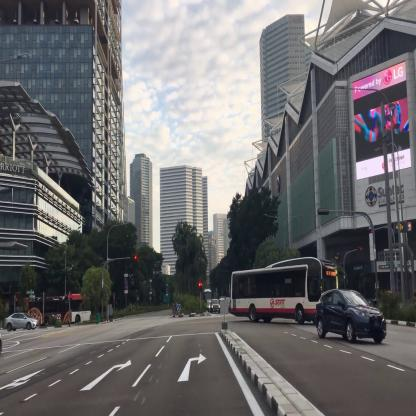red_traffic_light: (130, 256, 137, 259), (199, 282, 200, 291)
